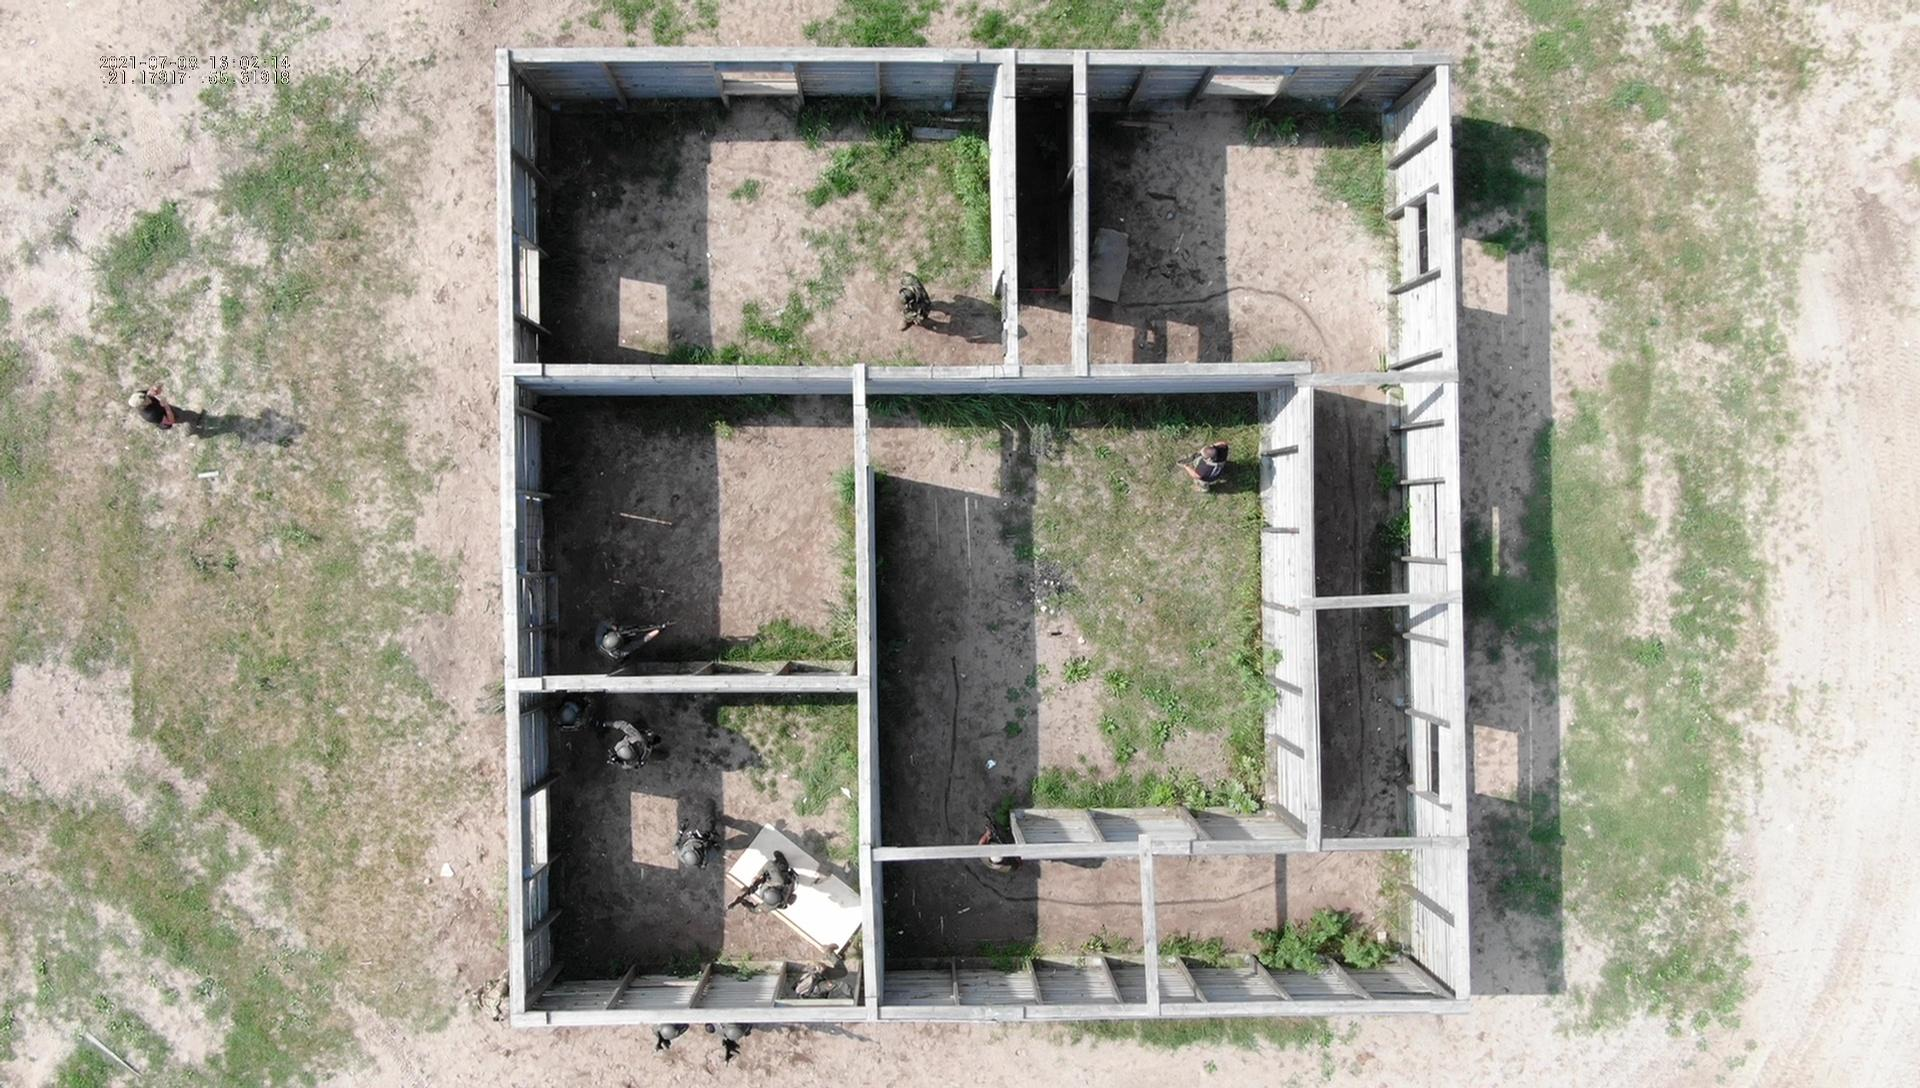Soldier: (121, 385, 240, 447), (779, 924, 857, 1010), (559, 694, 620, 781), (553, 591, 645, 648), (752, 851, 825, 915), (609, 728, 676, 798), (676, 804, 738, 876), (1191, 433, 1241, 514), (897, 277, 949, 335), (709, 1022, 764, 1062), (647, 1019, 695, 1050)
